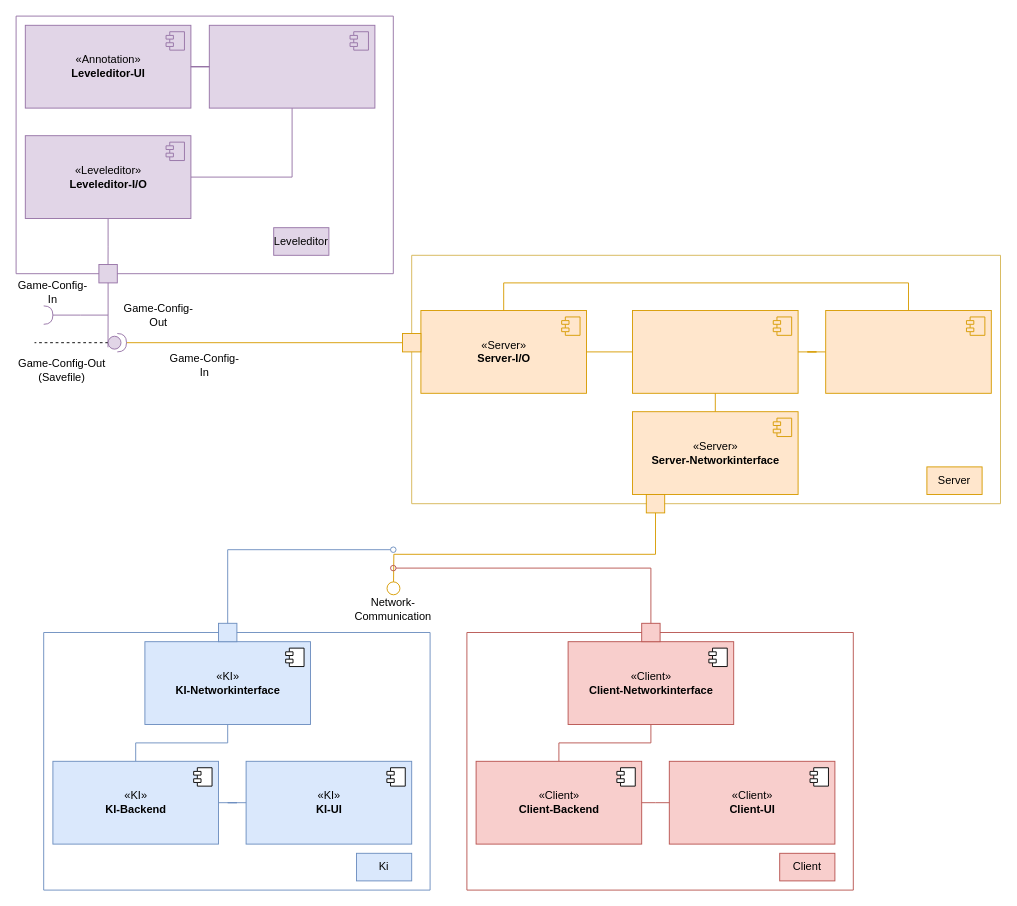
This 1017x906 diagram has some shape labels left out. Here are the shapes that lost their labels. From the top down, the centre of each, then its label:
(291,66): «Leveleditor» Leveleditor-State
(715,351): «Server» Server-Backend
(908,351): «Server» Server-UI
